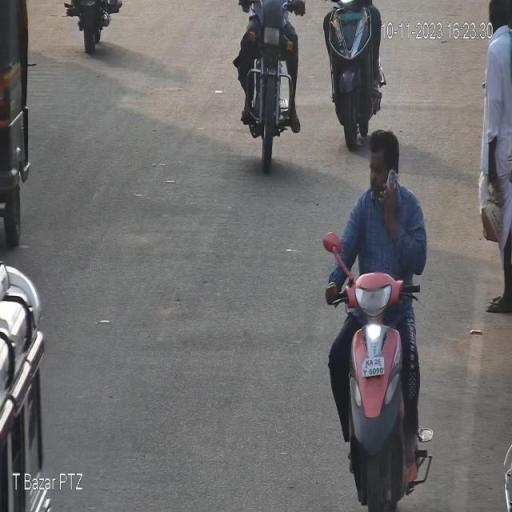using mobile: (369, 160, 405, 222)
